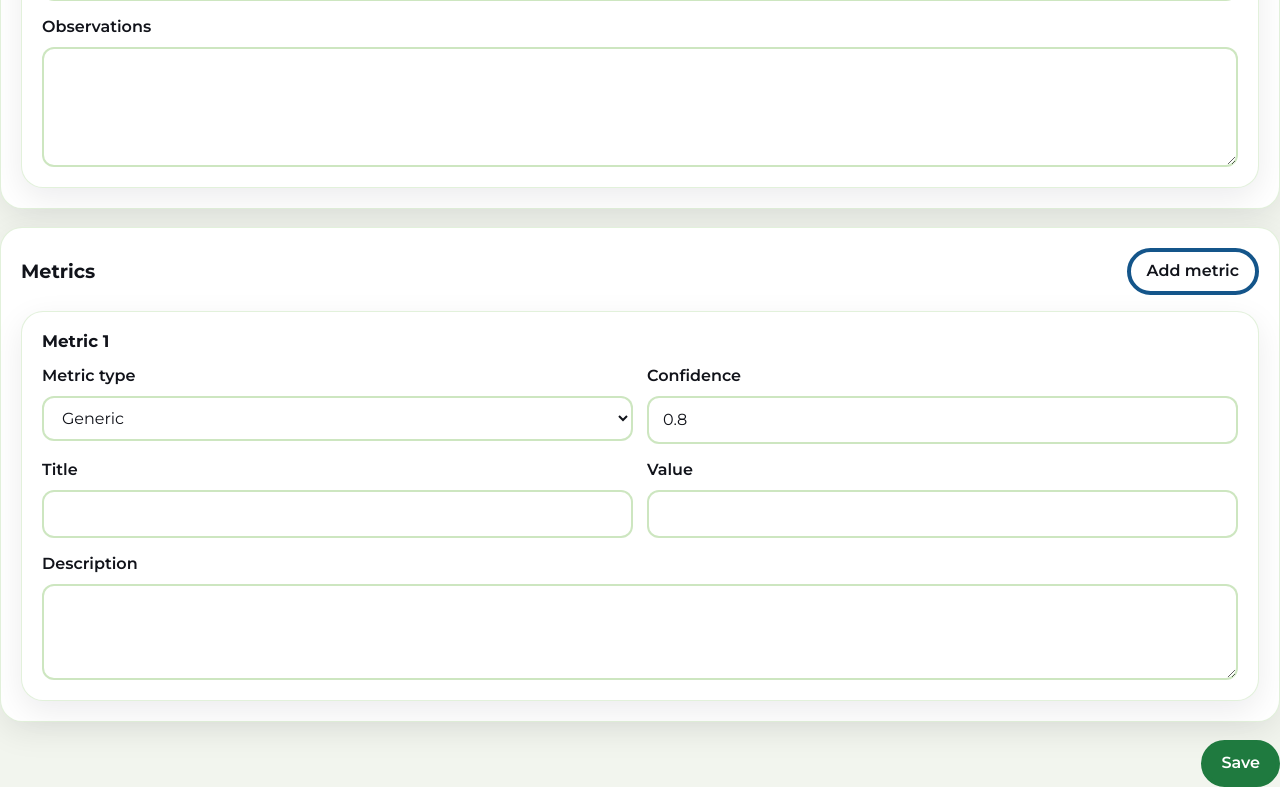
PracticeForm Component › Metrics Section - Edit Mode Only › changes metric type and shows accuracy-specific fields
(page scrolled)
Select "Accuracy" in the dropdown labelled "Metric type": (338, 418) x1=42 y1=396 x2=633 y2=441
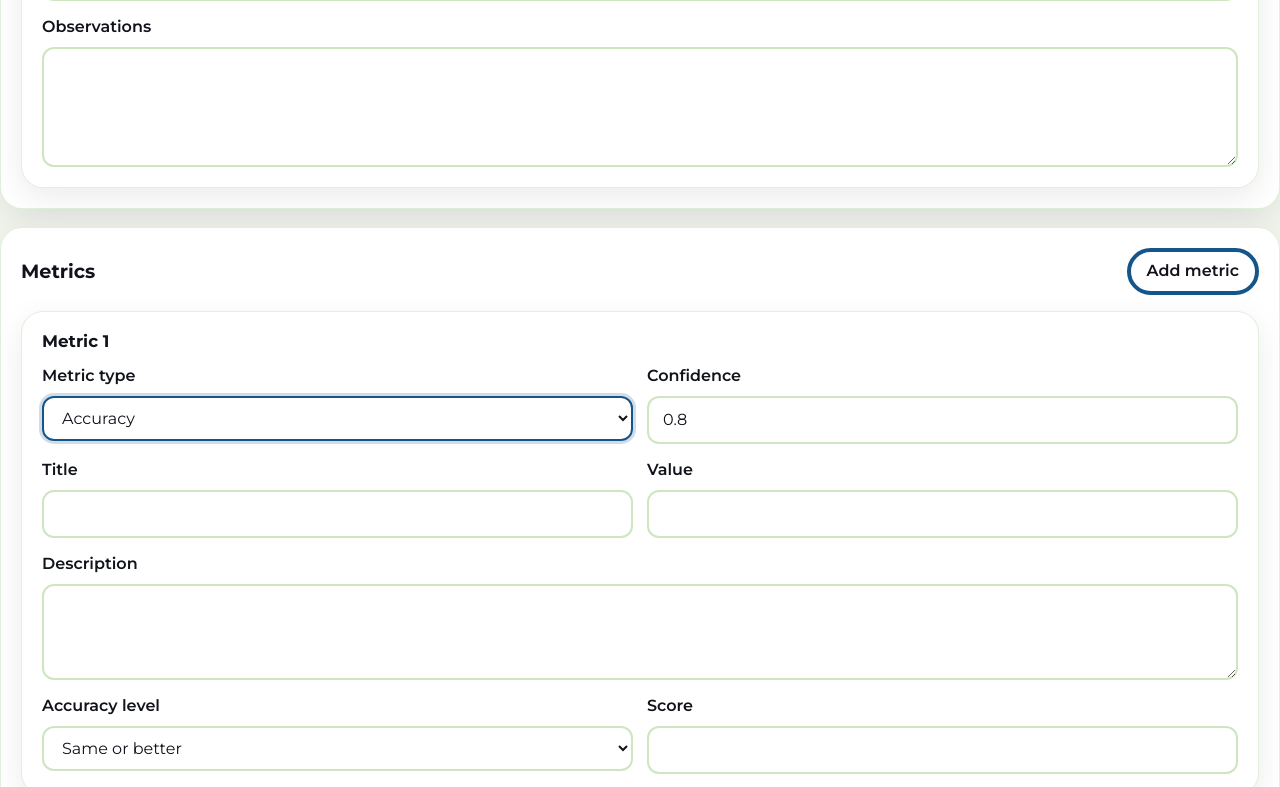
Expected: the dropdown labelled "Accuracy level" is shown, x1=42 y1=726 x2=633 y2=771
Expected: the number field labelled "Score" is shown, x1=647 y1=726 x2=1238 y2=774
